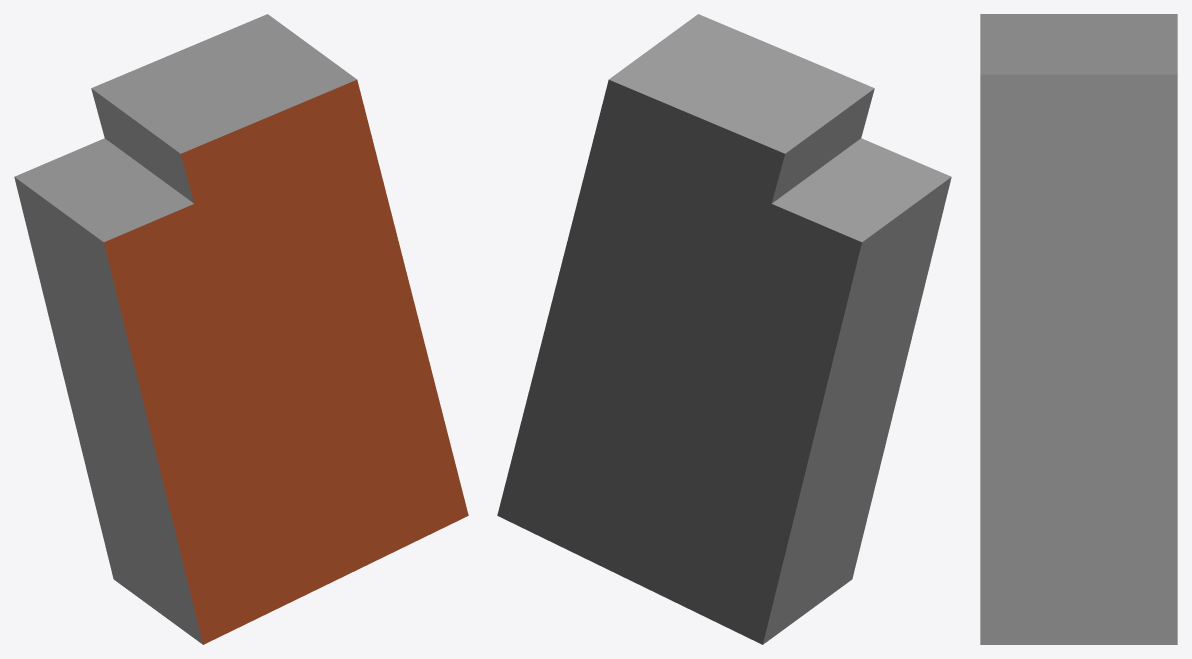
Rendered from construction_7035_assumed_A_Casa_h6m.obj.
3 renders of one model, left to right at view 1: azimuth 30°, elevation 25°; view 2: azimuth 150°, elevation 25°; view 3: azimuth 270°, elevation 25°, orthographic. The views are drawn at different scales.
Visible parts, largest first — view 1: construction_7035_assumed_A_Casa; view 2: construction_7035_assumed_A_Casa; view 3: construction_7035_assumed_A_Casa.
Part boxes in pixels (x1,y1,x2,y2): construction_7035_assumed_A_Casa: (14,14,468,644); construction_7035_assumed_A_Casa: (497,14,951,644); construction_7035_assumed_A_Casa: (980,14,1177,644).
Size of the model in its own units: 14.1 by 19.5 by 6.
